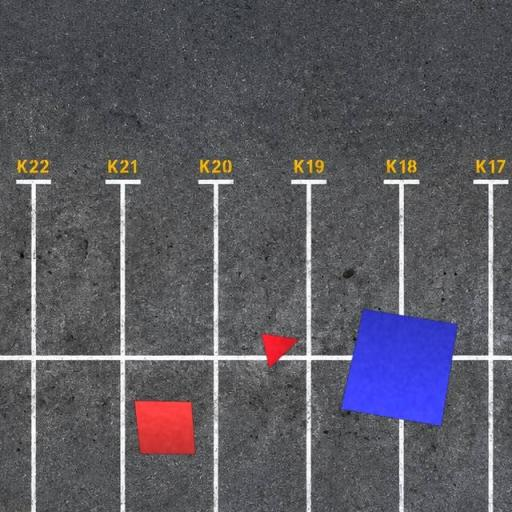BLUE_SQUARE: (340, 309, 458, 427)
RED_SQUARE: (134, 400, 196, 455)
